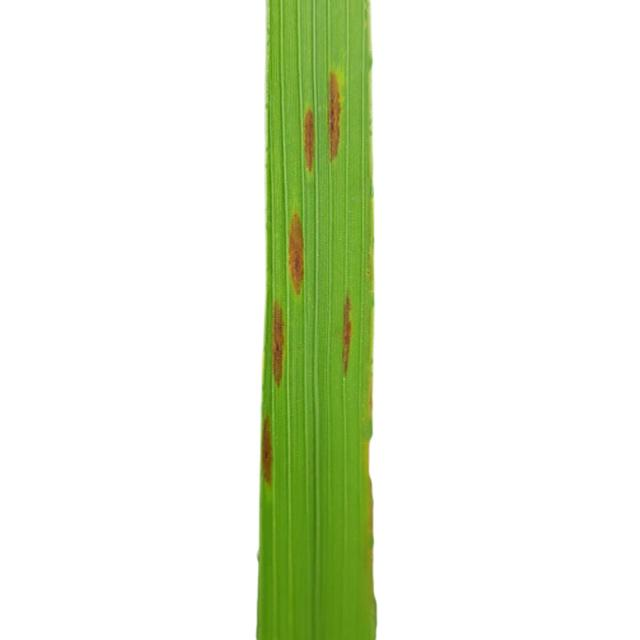Narrow brown: (207, 0, 430, 640)
